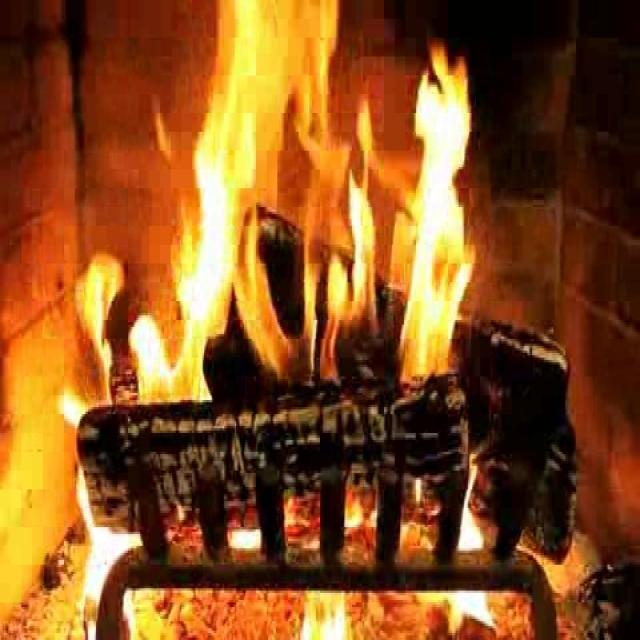fire: (132, 1, 480, 426)
